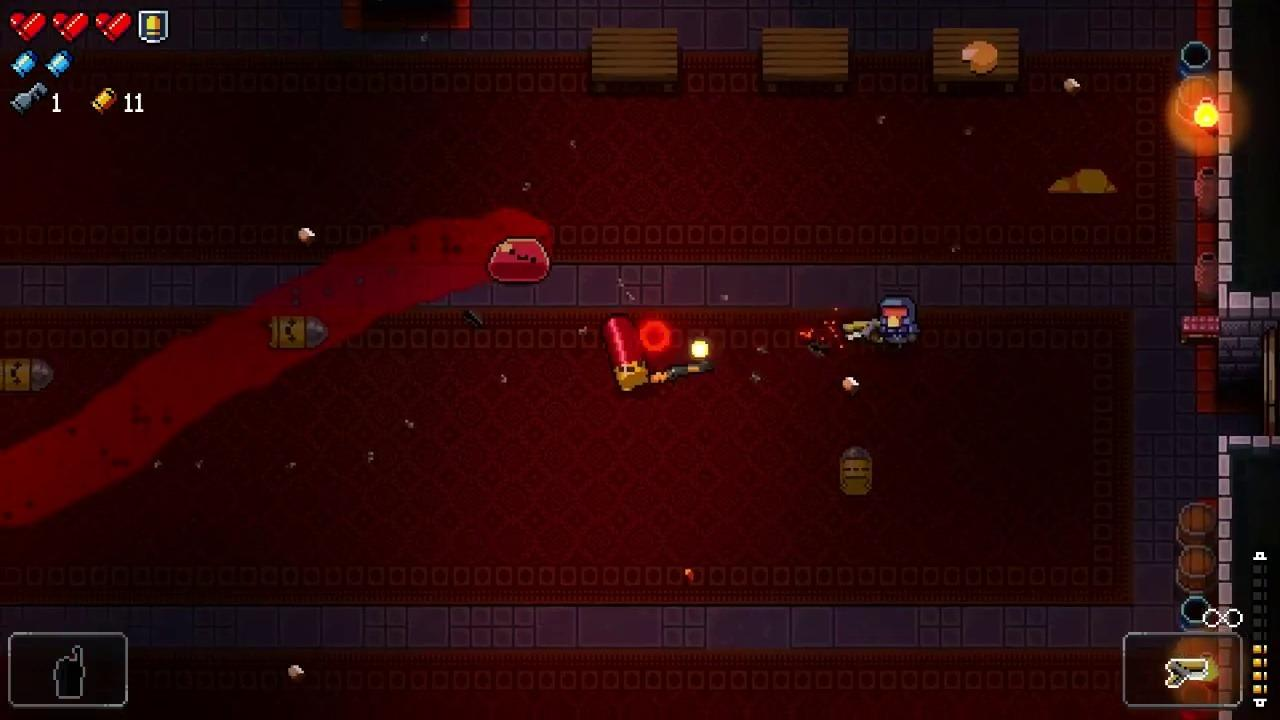blobulon_l: (486, 238, 549, 283)
dead_apprentice_gunjurer: (1047, 168, 1118, 195)
dead_bullet_kin: (266, 312, 330, 351), (0, 356, 54, 391), (842, 445, 874, 497)
player: (877, 294, 921, 346)
red_shotgun_kin: (599, 312, 650, 395)
table: (591, 28, 676, 95), (762, 30, 850, 93), (933, 29, 1019, 93)
